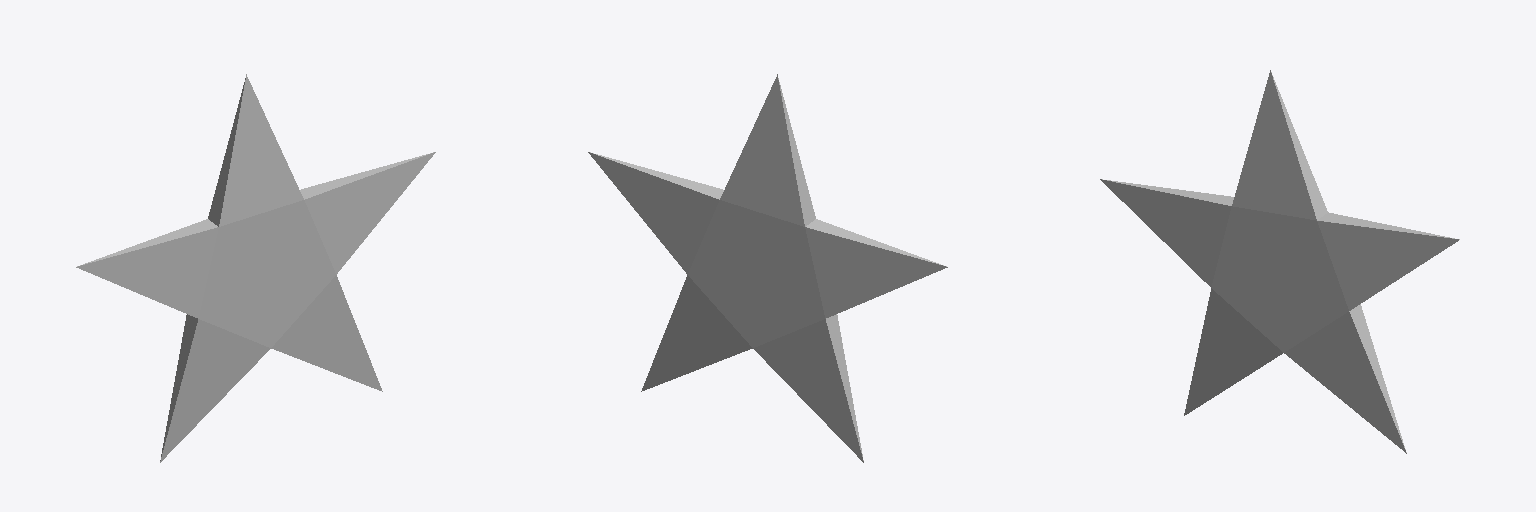
The model's file is star2.obj.
3 views of the same model, side by side, from view 1: azimuth 30°, elevation 25°; view 2: azimuth 150°, elevation 25°; view 3: azimuth 330°, elevation 25° (orthographic).
Visible parts, largest first — view 1: Group_001; view 2: Group_001; view 3: Group_001.
Part boxes in pixels (x1,y1,x2,y2): Group_001: (76,74,435,462); Group_001: (588,74,947,462); Group_001: (1100,70,1459,453).
Size of the model in its own units: 465 by 452 by 25.